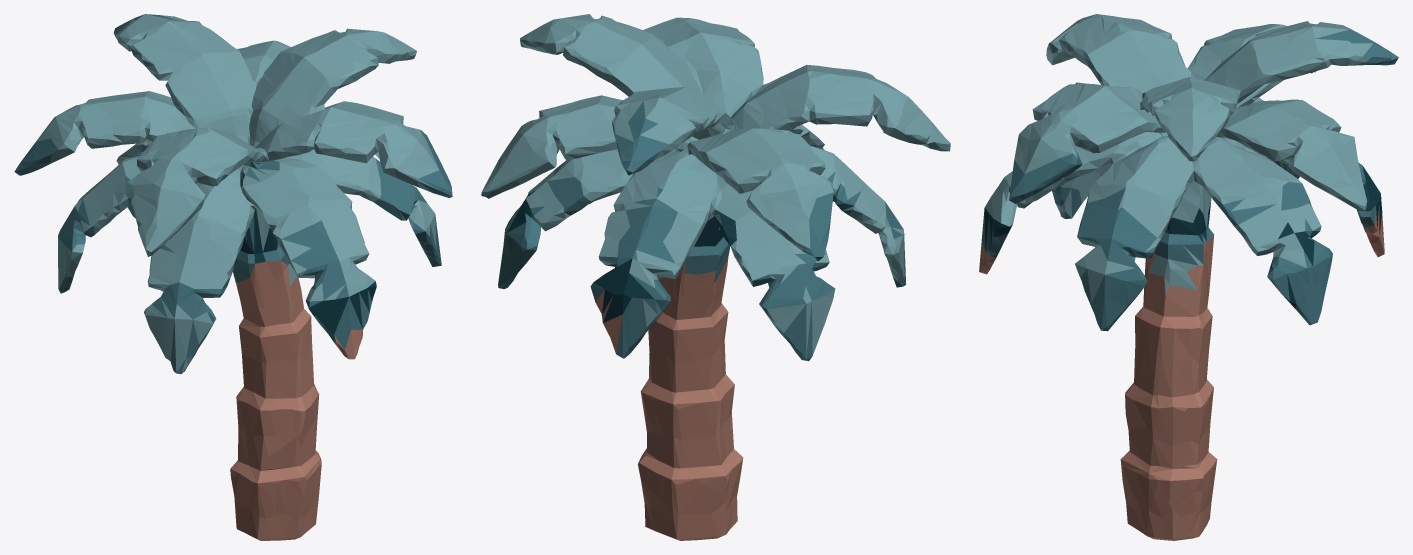
The model's file is tree_palm.glb.
3 views of the same model, side by side, from view 1: azimuth 30°, elevation 25°; view 2: azimuth 150°, elevation 25°; view 3: azimuth 270°, elevation 25° (orthographic). The views are drawn at different scales.
Visible parts, largest first — view 1: geometry_0; view 2: geometry_0; view 3: geometry_0.
Part boxes in pixels (x1,y1,x2,y2): geometry_0: (14,14,452,540); geometry_0: (481,14,950,540); geometry_0: (979,14,1398,540).
Bounding box in the file's own units: 1.54 × 1.99 × 1.57.
